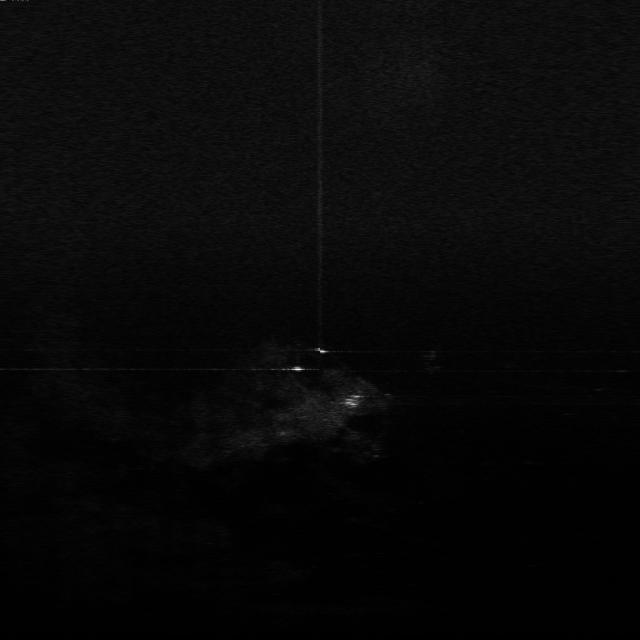rov: (340, 392, 364, 409)
